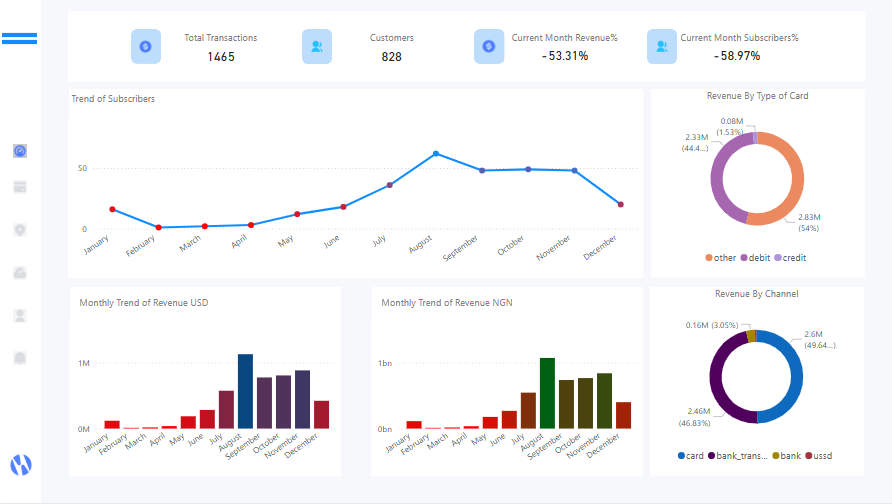

What the dashboard file says about the page in this screenshot:
{"tool":"powerbi","page":{"name":"Page 1","canvas":[1280,720],"ordinal":0},"visuals":[{"type":"group","id":"g1","title":"Group 2","box":[0,0,60,720],"z":0},{"type":"shape","box":[0,0,60,720.3],"z":0,"group":"g1"},{"type":"shape","box":[4.8,40.7,50,20],"z":0,"group":"g19"},{"type":"group","id":"g2","title":"Group 6","box":[967.9,41.5,179,54],"z":0,"group":"g15"},{"type":"textbox","box":[967.9,41.5,179,54],"z":0,"group":"g2"},{"type":"group","id":"g3","title":"Group 7","box":[188.1,41.9,213,53],"z":0,"group":"g14"},{"type":"group","id":"g4","title":"Group 4","box":[231.1,41.9,170,53],"z":0,"group":"g3"},{"type":"textbox","box":[231.1,41.9,170.8,53.7],"z":0,"group":"g4"},{"type":"textbox","box":[475.3,41.9,171.1,53.1],"z":0,"group":"g8"},{"type":"group","id":"g5","title":"Group 6","box":[722.6,41.9,171,53],"z":0,"group":"g13"},{"type":"textbox","box":[722.6,41.9,170.8,53.7],"z":0,"group":"g5"},{"type":"shape","box":[677.6,43.1,43.7,50],"z":0,"group":"g9"},{"type":"group","id":"g6","title":"Group 5","box":[432.3,43.4,42,50],"z":0,"group":"g7"},{"type":"shape","box":[432.3,43.4,43.3,50.5],"z":0,"group":"g6"},{"type":"shape","box":[924.9,43.5,43.3,50.5],"z":0,"group":"g10"},{"type":"shape","box":[188.1,43.7,43.1,50],"z":0,"group":"g11"},{"type":"shape","box":[628.6,46.4,43.1,50],"z":0,"group":"g12"},{"type":"shape","box":[931.7,128.3,305,269.3],"z":0,"group":"g17"},{"type":"shape","box":[99.2,128.7,820.8,269.2],"z":0,"group":"g16"},{"type":"shape","box":[101.6,411.7,386.8,270],"z":0,"group":"g21"},{"type":"shape","box":[533.3,411.7,386.8,270],"z":0,"group":"g20"},{"type":"shape","box":[930,411.7,305,269.3],"z":0,"group":"g18"},{"type":"group","id":"g7","title":"Group 8","box":[432.3,41.9,214,53],"z":1000,"group":"g14"},{"type":"group","id":"g8","title":"Group 4","box":[475.3,41.9,171,53],"z":1000,"group":"g7"},{"type":"group","id":"g9","title":"Group 3","box":[677.6,43.1,42,50],"z":1000,"group":"g13"},{"type":"group","id":"g10","title":"Group 5","box":[924.9,43.5,42,50],"z":1000,"group":"g15"},{"type":"group","id":"g11","title":"Group 3","box":[188.1,43.7,42,50],"z":1000,"group":"g3"},{"type":"group","id":"g12","title":"Group 3","box":[628.6,46.4,42.1,50],"z":1000},{"type":"image","box":[683.8,49.7,30.5,35.8],"z":1000,"group":"g9"},{"type":"shape","box":[4.8,50.2,50,20],"z":1000,"group":"g19"},{"type":"image","box":[194.2,50.3,30.1,35.8],"z":1000,"group":"g11"},{"type":"image","box":[439.4,50.5,28.2,35.3],"z":1000,"group":"g6"},{"type":"image","box":[932,50.6,28.2,35.3],"z":1000,"group":"g10"},{"type":"image","box":[634.7,53,30.1,35.8],"z":1000,"group":"g12"},{"type":"card","fields":{"Values":["calculations.SubscribersChange%"]},"box":[1012.2,66.2,82.1,24.3],"z":1000,"group":"g2"},{"type":"card","fields":{"Values":["calculations.RevenueChange%"]},"box":[766.9,66.9,82.1,24.3],"z":1000,"group":"g5"},{"type":"card","fields":{"Values":["Count(sera sales.user_id)"]},"box":[532,68,56.7,24.1],"z":1000,"group":"g8"},{"type":"card","fields":{"Values":["CountNonNull(sera sales.transaction_id)"]},"box":[287.7,68.2,56.6,24.4],"z":1000,"group":"g4"},{"type":"donutChart","fields":{"Category":["sera sales.credit_or_debit"],"Y":["calculations.TotalSuccessfulRevenue"]},"box":[964.4,154,238.1,234.1],"z":1000,"group":"g17"},{"type":"lineChart","fields":{"Category":["sera sales.datetime.Variation.Date Hierarchy.Month"],"Y":["CountNonNull(sera sales.user_id)"]},"box":[98.3,175.4,821.1,222.8],"z":1000,"group":"g16"},{"type":"actionButton","box":[20,207.8,20,20],"z":1000,"group":"g1"},{"type":"donutChart","fields":{"Y":["calculations.TotalSuccessfulRevenue"],"Category":["sera sales.channel"]},"box":[962.7,437.4,238.1,234.1],"z":1000,"group":"g18"},{"type":"clusteredColumnChart","fields":{"Category":["sera sales.datetime.Variation.Date Hierarchy.Month"],"Y":["Sum(sera sales.amount)"]},"box":[100,458.4,388.3,223.3],"z":1000,"group":"g21"},{"type":"clusteredColumnChart","fields":{"Category":["sera sales.datetime.Variation.Date Hierarchy.Month"],"Y":["Sum(sera sales.Amount NGN)"]},"box":[531.7,458.4,388.3,223.3],"z":1000,"group":"g20"},{"type":"shape","box":[98.4,17.1,1138.6,101.4],"z":2000},{"type":"group","id":"g13","title":"Group 9","box":[677.6,41.9,216,53],"z":2000,"group":"g14"},{"type":"textbox","box":[98.6,128.2,217.8,33.1],"z":2000,"group":"g16"},{"type":"actionButton","box":[20.4,258.5,19.8,19.8],"z":2000,"group":"g1"},{"type":"textbox","box":[109.4,420,206,33.3],"z":2000,"group":"g21"},{"type":"textbox","box":[541.1,420,206,33.3],"z":2000,"group":"g20"},{"type":"group","id":"g14","title":"Group 11","box":[188.1,41.5,959.2,53.8],"z":3000},{"type":"group","id":"g15","title":"Group 10","box":[924.9,41.5,222.5,53.8],"z":3000,"group":"g14"},{"type":"actionButton","box":[20.4,320.4,19.8,19.8],"z":3000,"group":"g1"},{"type":"group","id":"g16","title":"Trend of Subscribers","box":[98.3,128.2,821.7,270],"z":4000},{"type":"actionButton","box":[20.4,381,19.8,19.8],"z":4000,"group":"g1"},{"type":"group","id":"g17","title":"Revenue By type of Card","box":[931.7,128.3,305,270],"z":5000},{"type":"actionButton","box":[20.4,442.8,19.8,19.8],"z":5000,"group":"g1"},{"type":"group","id":"g18","title":"Revenue by Channel","box":[930,411.7,305,270],"z":6000},{"type":"actionButton","box":[20.4,503.4,19.8,19.8],"z":6000,"group":"g1"},{"type":"group","id":"g19","title":"Group 1","box":[4.8,40.7,50.3,28.8],"z":7000,"group":"g1"},{"type":"group","id":"g20","title":"NGN Monthly Trend revenue ","box":[531.7,411.7,388.3,270],"z":7000},{"type":"group","id":"g21","title":"NGN Monthly Trend revenue ","box":[100,411.7,388.3,270],"z":8000},{"type":"image","box":[10.8,646,39.6,40.7],"z":8000,"group":"g1"}]}

Visuals, with their boxes on the page's 1280x720 design canvas (x1, y1, x2, y2). These are canvas units, not pixel positions in the 892x504 screenshot, which may show the page scaled, cropped or inside an application window:
"Group 2" group: crop(0, 0, 60, 720)
shape: crop(0, 0, 60, 720)
shape: crop(5, 41, 55, 61)
"Group 6" group: crop(968, 42, 1147, 96)
textbox: crop(968, 42, 1147, 96)
"Group 7" group: crop(188, 42, 401, 95)
"Group 4" group: crop(231, 42, 401, 95)
textbox: crop(231, 42, 402, 96)
textbox: crop(475, 42, 646, 95)
"Group 6" group: crop(723, 42, 894, 95)
textbox: crop(723, 42, 893, 96)
shape: crop(678, 43, 721, 93)
"Group 5" group: crop(432, 43, 474, 93)
shape: crop(432, 43, 476, 94)
shape: crop(925, 44, 968, 94)
shape: crop(188, 44, 231, 94)
shape: crop(629, 46, 672, 96)
shape: crop(932, 128, 1237, 398)
shape: crop(99, 129, 920, 398)
shape: crop(102, 412, 488, 682)
shape: crop(533, 412, 920, 682)
shape: crop(930, 412, 1235, 681)
"Group 8" group: crop(432, 42, 646, 95)
"Group 4" group: crop(475, 42, 646, 95)
"Group 3" group: crop(678, 43, 720, 93)
"Group 5" group: crop(925, 44, 967, 94)
"Group 3" group: crop(188, 44, 230, 94)
"Group 3" group: crop(629, 46, 671, 96)
image: crop(684, 50, 714, 86)
shape: crop(5, 50, 55, 70)
image: crop(194, 50, 224, 86)
image: crop(439, 50, 468, 86)
image: crop(932, 51, 960, 86)
image: crop(635, 53, 665, 89)
card - calculations.SubscribersChange%: crop(1012, 66, 1094, 90)
card - calculations.RevenueChange%: crop(767, 67, 849, 91)
card - Count(sera sales.user_id): crop(532, 68, 589, 92)
card - CountNonNull(sera sales.transaction_id): crop(288, 68, 344, 93)
donutChart - sera sales.credit_or_debit x calculations.TotalSuccessfulRevenue: crop(964, 154, 1202, 388)
lineChart - sera sales.datetime.Variation.Date Hierarchy.Month x CountNonNull(sera sales.user_id): crop(98, 175, 919, 398)
actionButton: crop(20, 208, 40, 228)
donutChart - calculations.TotalSuccessfulRevenue x sera sales.channel: crop(963, 437, 1201, 672)
clusteredColumnChart - sera sales.datetime.Variation.Date Hierarchy.Month x Sum(sera sales.amount): crop(100, 458, 488, 682)
clusteredColumnChart - sera sales.datetime.Variation.Date Hierarchy.Month x Sum(sera sales.Amount NGN): crop(532, 458, 920, 682)
shape: crop(98, 17, 1237, 118)
"Group 9" group: crop(678, 42, 894, 95)
textbox: crop(99, 128, 316, 161)
actionButton: crop(20, 258, 40, 278)
textbox: crop(109, 420, 315, 453)
textbox: crop(541, 420, 747, 453)
"Group 11" group: crop(188, 42, 1147, 95)
"Group 10" group: crop(925, 42, 1147, 95)
actionButton: crop(20, 320, 40, 340)
"Trend of Subscribers" group: crop(98, 128, 920, 398)
actionButton: crop(20, 381, 40, 401)
"Revenue By type of Card" group: crop(932, 128, 1237, 398)
actionButton: crop(20, 443, 40, 463)
"Revenue by Channel" group: crop(930, 412, 1235, 682)
actionButton: crop(20, 503, 40, 523)
"Group 1" group: crop(5, 41, 55, 70)
"NGN Monthly Trend revenue " group: crop(532, 412, 920, 682)
"NGN Monthly Trend revenue " group: crop(100, 412, 488, 682)
image: crop(11, 646, 50, 687)
